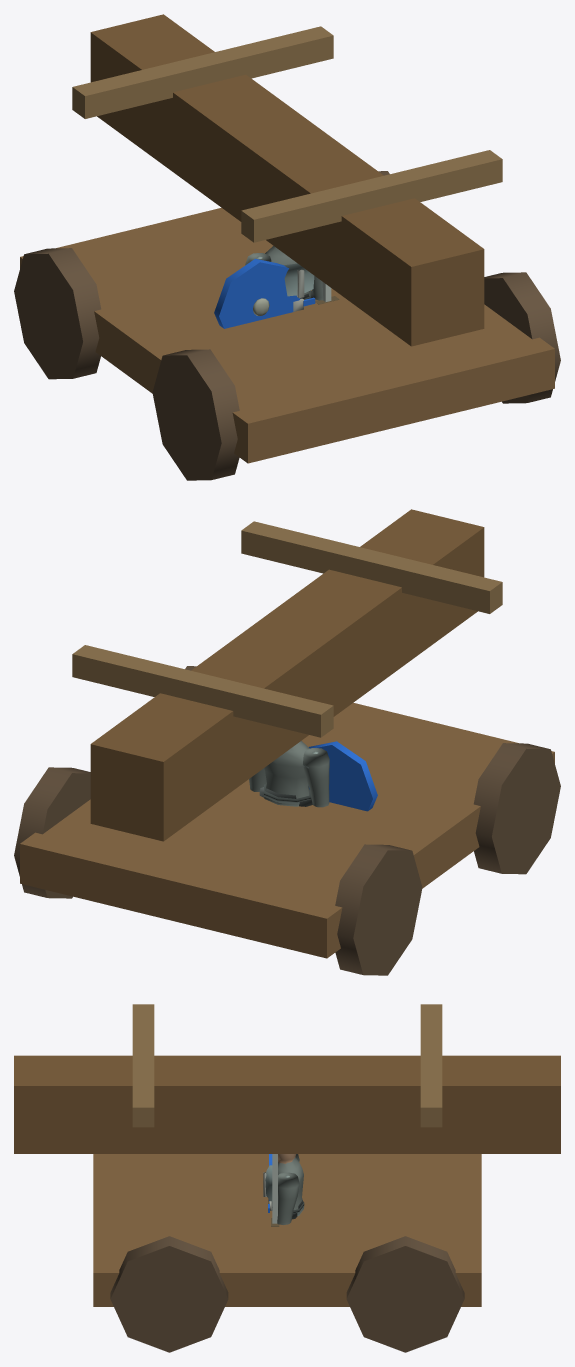
Rendered from battering_ram_team0.glb.
The picture shows the model from 3 angles, top to bottom: view 1: azimuth 30°, elevation 25°; view 2: azimuth 150°, elevation 25°; view 3: azimuth 270°, elevation 25°; orthographic projection. The views are drawn at different scales.
Visible parts, largest first — view 1: part_11, part_16, part_13, part_12, part_18, part_17, part_15, part_3, part_0; view 2: part_11, part_16, part_12, part_13, part_17, part_18, part_14, part_3, part_0, part_2; view 3: part_16, part_11, part_14, part_15, part_17, part_18, part_5, part_0.
Boxes of the visible parts, left/top/right/bottom form: part_11: left=20, top=208, right=554, bottom=463; part_16: left=90, top=14, right=484, bottom=346; part_13: left=152, top=349, right=239, bottom=480; part_12: left=14, top=248, right=101, bottom=379; part_18: left=241, top=150, right=502, bottom=242; part_17: left=72, top=26, right=333, bottom=118; part_15: left=484, top=272, right=560, bottom=403; part_3: left=214, top=258, right=300, bottom=328; part_0: left=265, top=246, right=314, bottom=311; part_11: left=20, top=703, right=554, bottom=958; part_16: left=90, top=509, right=484, bottom=841; part_12: left=335, top=844, right=422, bottom=975; part_13: left=473, top=743, right=560, bottom=874; part_17: left=72, top=645, right=333, bottom=737; part_18: left=241, top=521, right=502, bottom=613; part_14: left=14, top=767, right=90, bottom=898; part_3: left=309, top=741, right=377, bottom=811; part_0: left=263, top=741, right=310, bottom=806; part_2: left=303, top=748, right=329, bottom=807; part_16: left=14, top=1055, right=560, bottom=1153; part_11: left=93, top=1154, right=481, bottom=1306; part_14: left=346, top=1236, right=464, bottom=1352; part_15: left=110, top=1236, right=228, bottom=1352; part_17: left=420, top=1004, right=442, bottom=1127; part_18: left=132, top=1004, right=154, bottom=1127; part_5: left=277, top=1172, right=299, bottom=1224; part_0: left=263, top=1157, right=304, bottom=1215.
Size of the model in its own units: 2.32 by 1.74 by 3.8.
